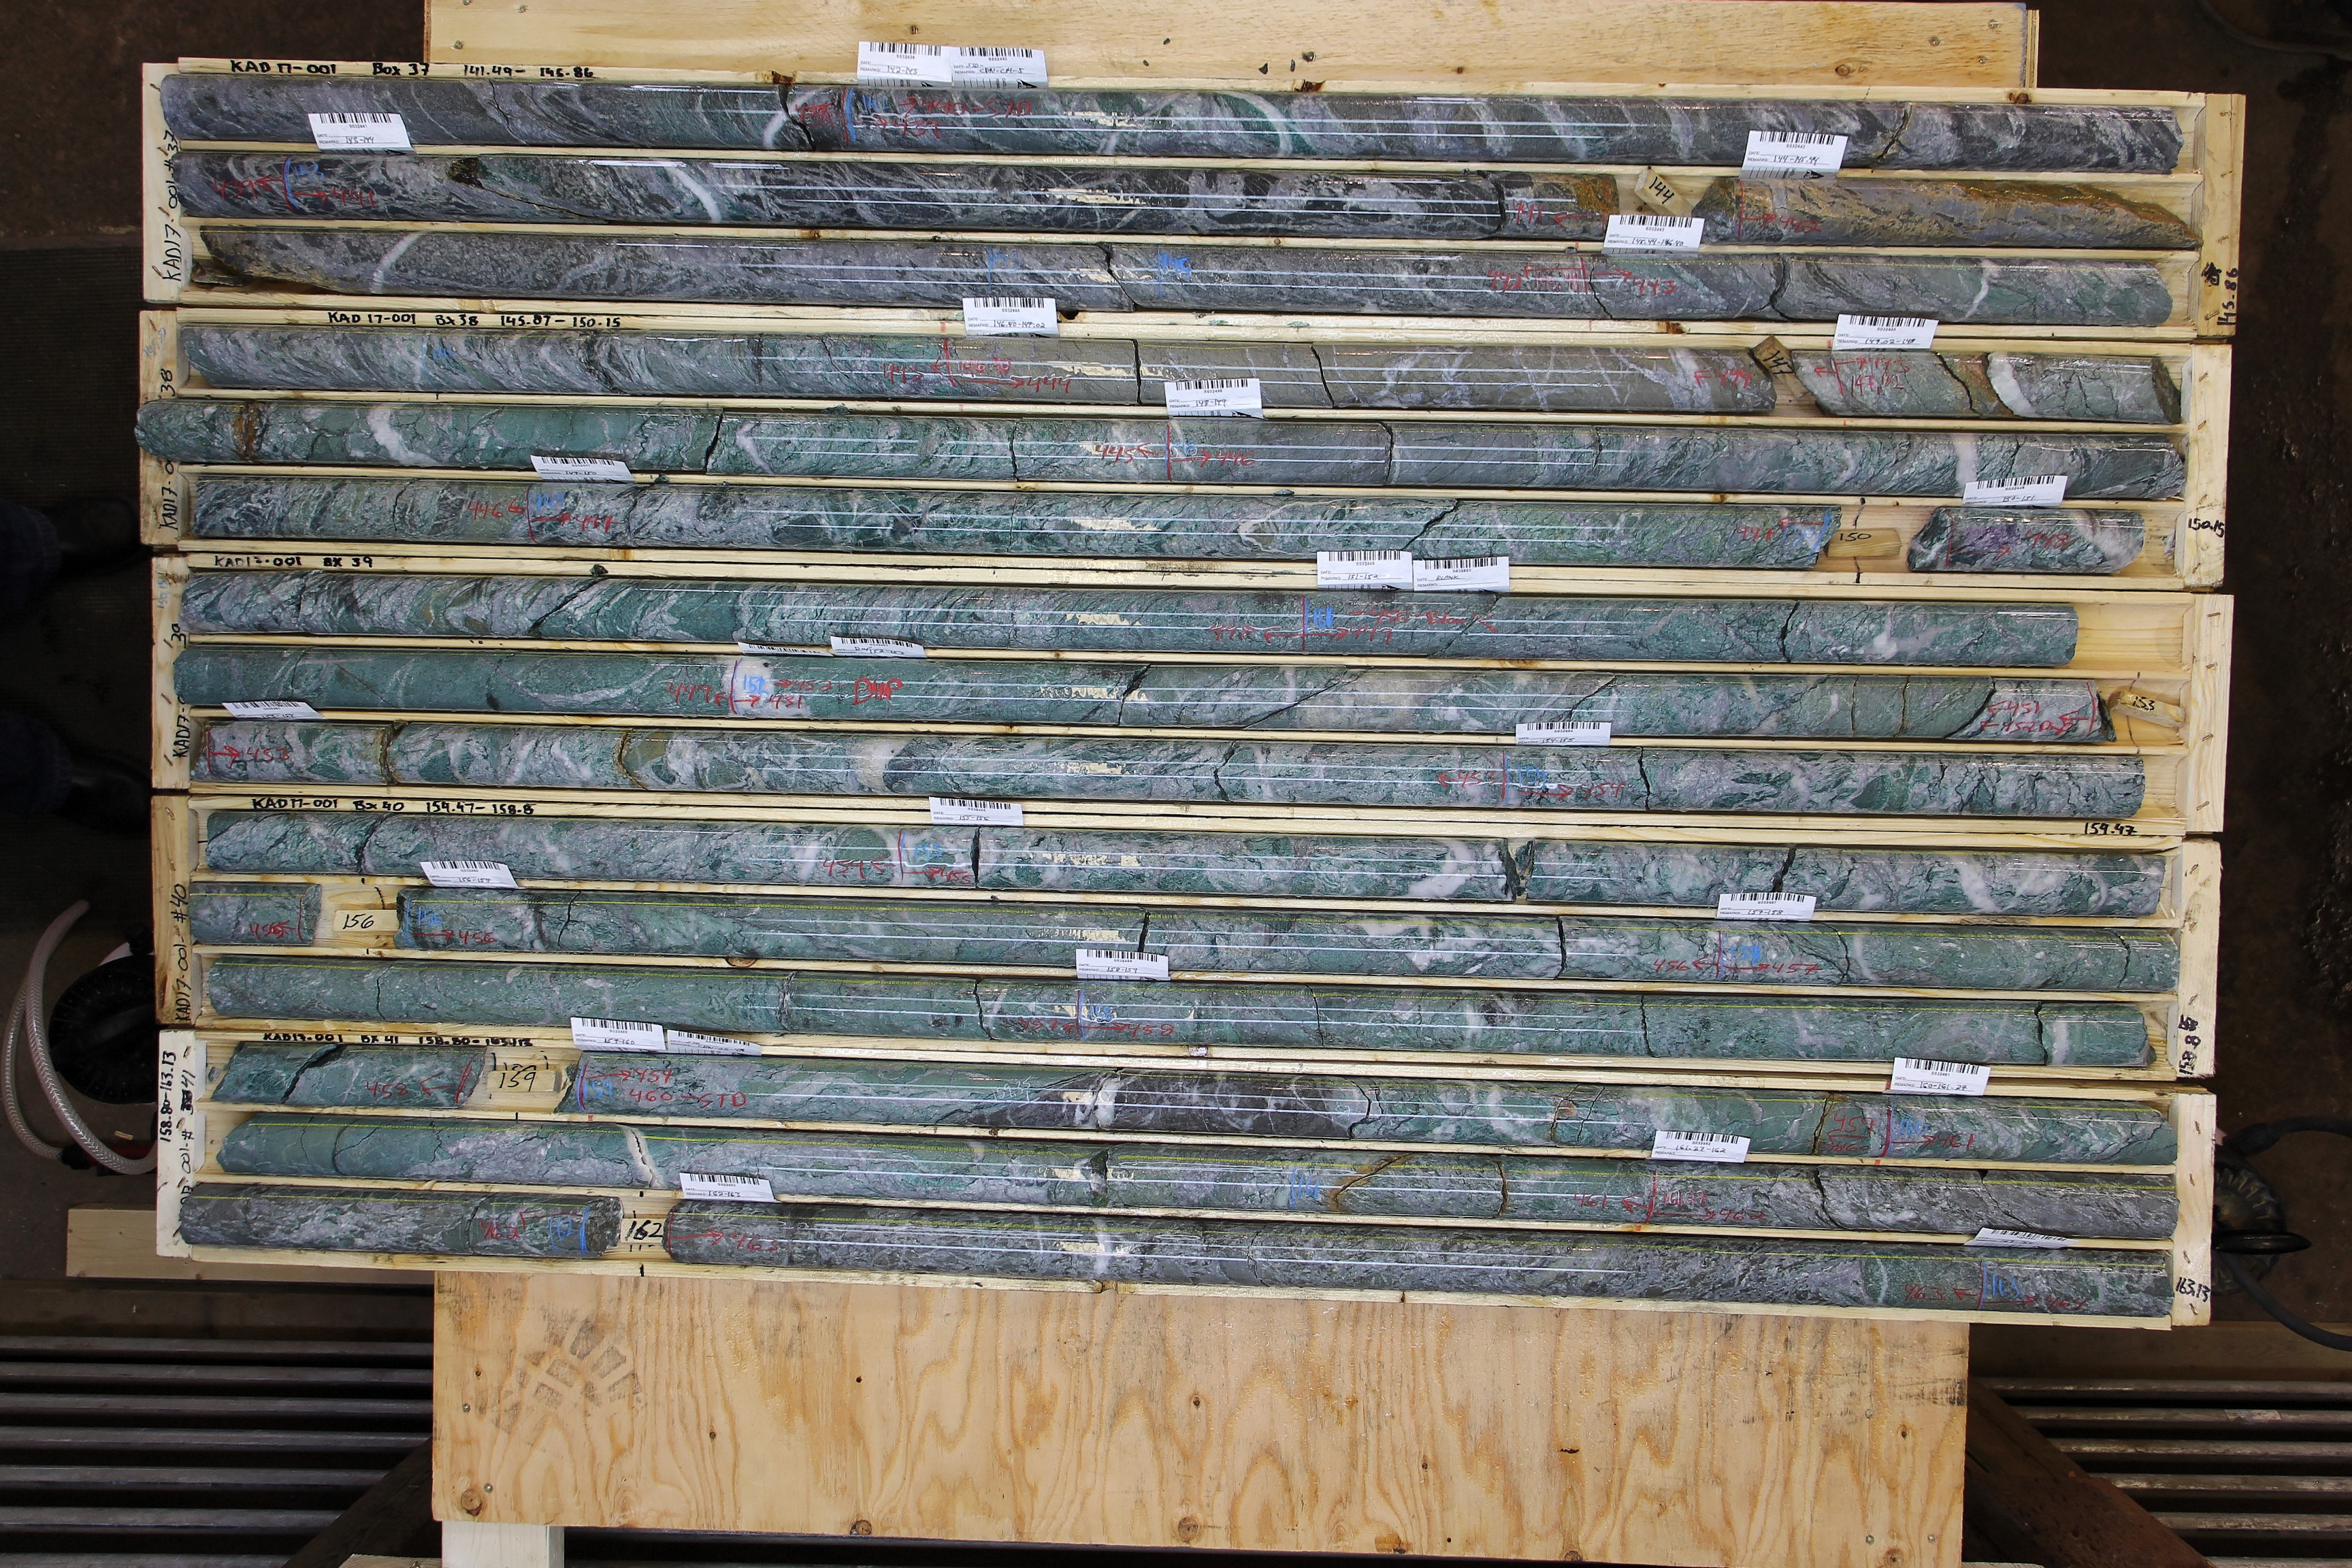rock-KAD17_001-141.49-142: (170, 76, 852, 148)
rock-KAD17_001-142-142x: (855, 89, 2181, 169)
rock-KAD17_001-142x-143: (176, 152, 289, 215)
rock-KAD17_001-143-144: (295, 161, 1610, 233)
rock-KAD17_001-144-144x: (1717, 179, 2177, 250)
rock-KAD17_001-144x-145: (201, 228, 1163, 310)
rock-KAD17_001-145-145x: (1168, 248, 2168, 326)
rock-KAD17_001-145x-146: (180, 328, 431, 387)
rock-KAD17_001-146-147: (434, 330, 1744, 406)
rock-KAD17_001-147-147x: (1799, 353, 2174, 419)
rock-KAD17_001-147x-148: (184, 408, 1174, 474)
rock-KAD17_001-148-148x: (1177, 419, 2176, 497)
rock-KAD17_001-148x-149: (184, 476, 540, 542)
rock-KAD17_001-149-150: (545, 485, 1824, 566)
rock-KAD17_001-150-150x: (1924, 510, 2133, 570)
rock-KAD17_001-150x-151: (191, 574, 1303, 648)
rock-KAD17_001-151-151x: (1307, 592, 2076, 664)
rock-KAD17_001-151x-152: (191, 651, 737, 713)
rock-KAD17_001-152-153: (739, 657, 2099, 743)
rock-KAD17_001-153-154: (206, 722, 1506, 801)
rock-KAD17_001-154-154x: (1508, 749, 2143, 813)
rock-KAD17_001-154x-155: (207, 811, 902, 884)
rock-KAD17_001-155-155x: (903, 828, 2168, 913)
rock-KAD17_001-155x-156: (193, 882, 316, 944)
rock-KAD17_001-156-157: (406, 892, 1717, 978)
rock-KAD17_001-157-157x: (1720, 927, 2176, 989)
rock-KAD17_001-157x-158: (207, 960, 1077, 1036)
rock-KAD17_001-158-158x: (1081, 982, 2149, 1065)
rock-KAD17_001-158x-159: (235, 1041, 465, 1110)
rock-KAD17_001-159-160: (583, 1057, 1886, 1149)
rock-KAD17_001-160-160x: (1889, 1096, 2172, 1160)
rock-KAD17_001-160x-161: (230, 1116, 1294, 1210)
rock-KAD17_001-161-161x: (1295, 1147, 2178, 1235)
rock-KAD17_001-161x-162: (197, 1186, 587, 1256)
rock-KAD17_001-162-163: (671, 1207, 1984, 1302)
rock-KAD17_001-163-163.13: (1984, 1249, 2171, 1313)
